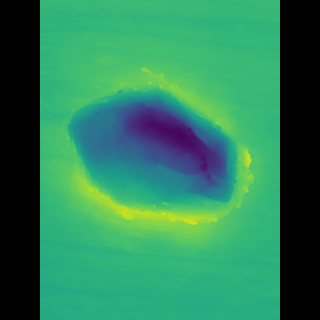Loch: (83, 60, 246, 244)
